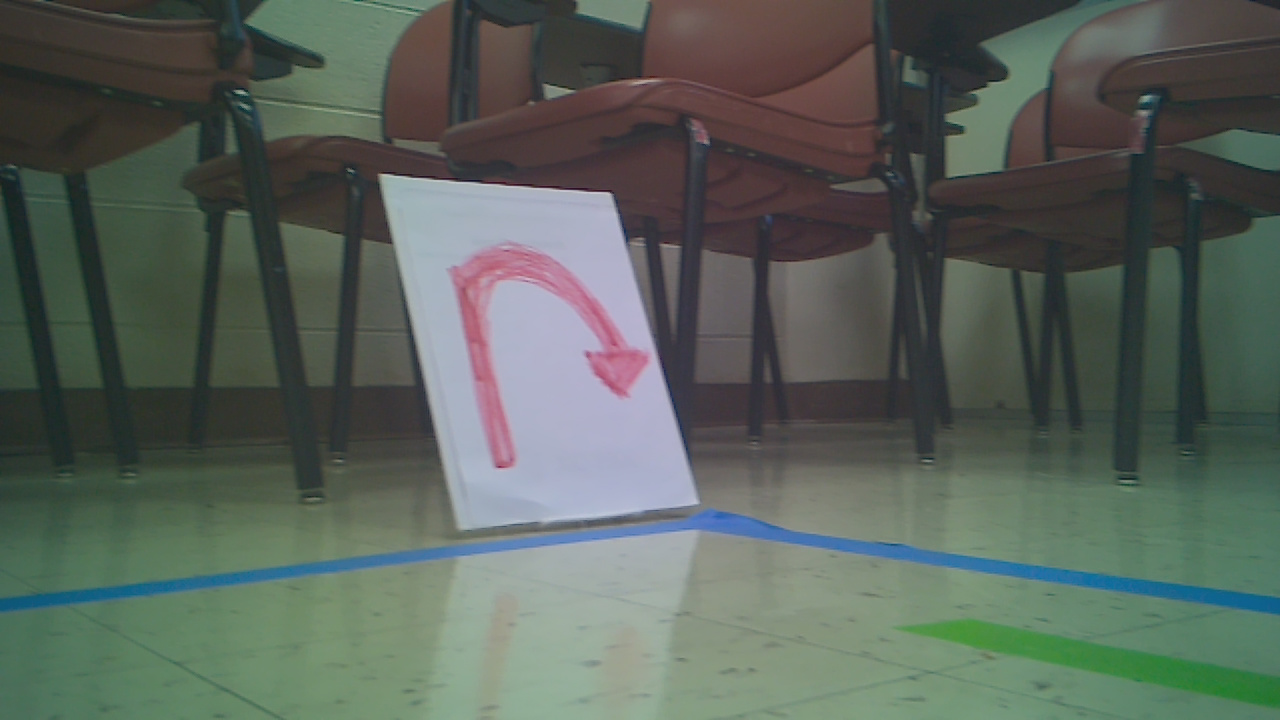uturn: (443, 240, 648, 469)
